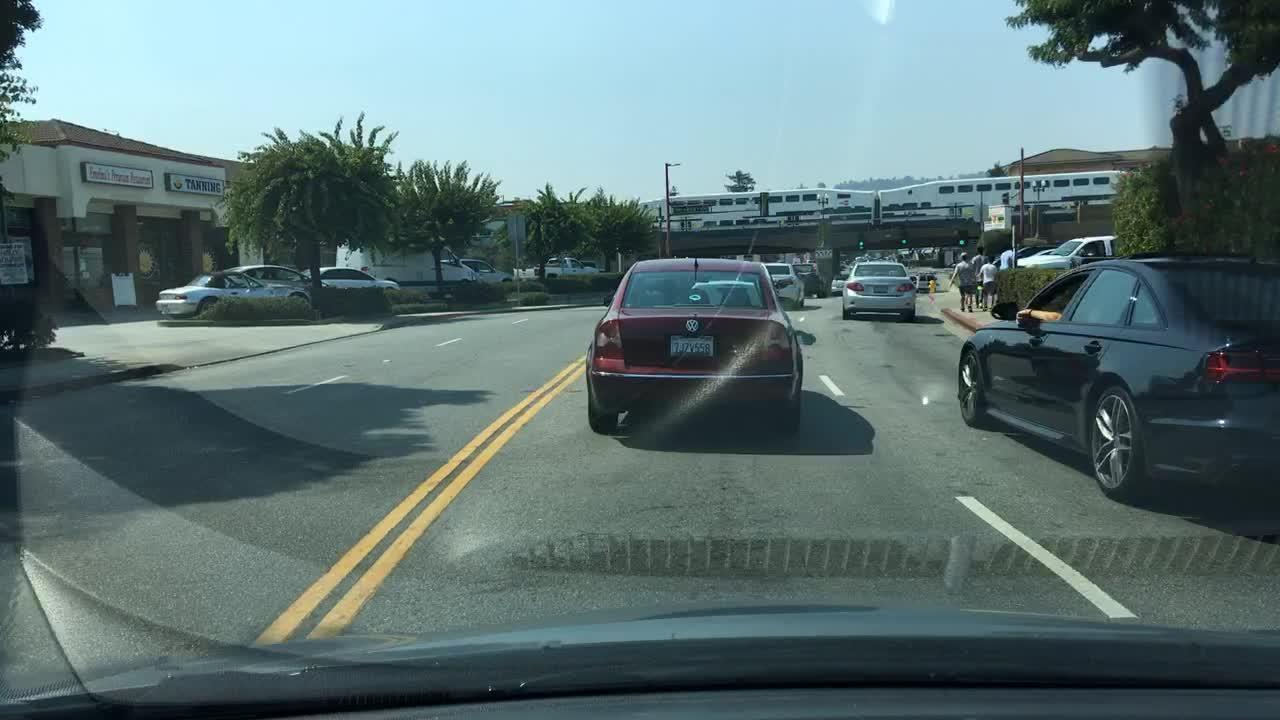Volkswagen: (682, 316, 704, 337)
